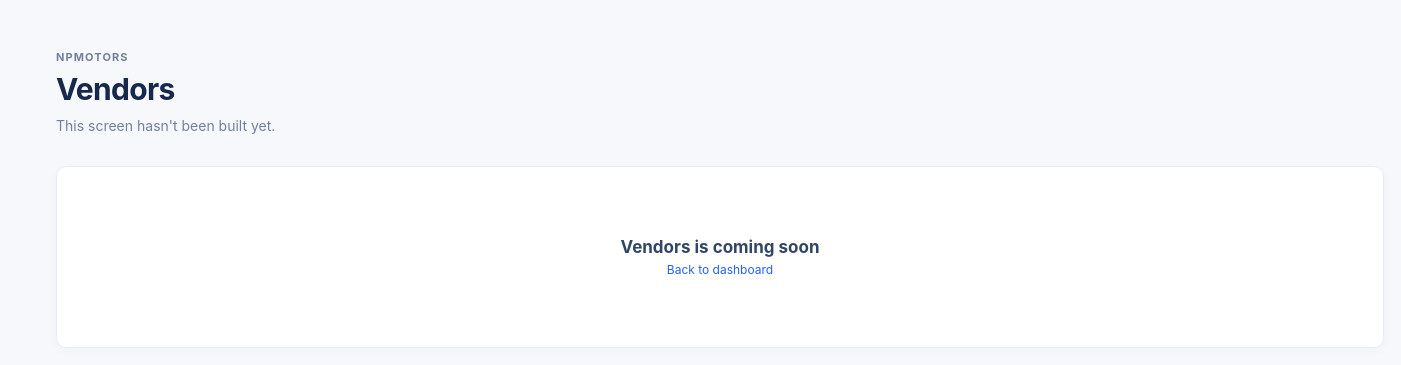
Test: ComingSoonPage › links back to the dashboard
The width and height of the screenshot is (1401, 365).
What coordinates should you click on to do the following:
click the link "Back to dashboard"
I would click on:
 (720, 269)
Its box is [667,262,773,276].
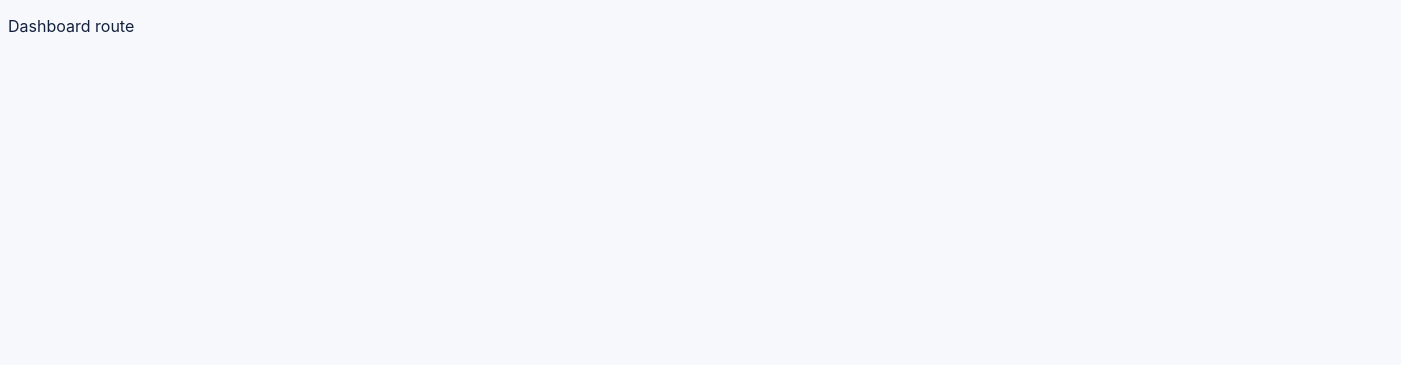
Now the text "Dashboard route" is shown, box [8,16,134,36]
